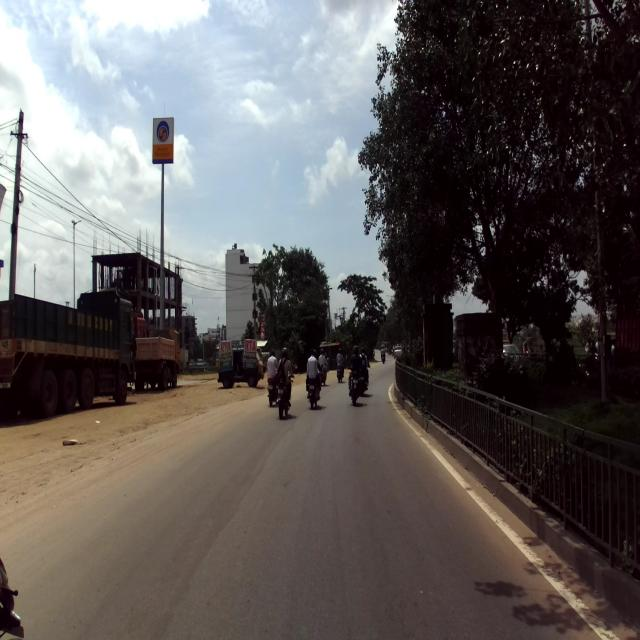truck: (0, 285, 136, 424)
